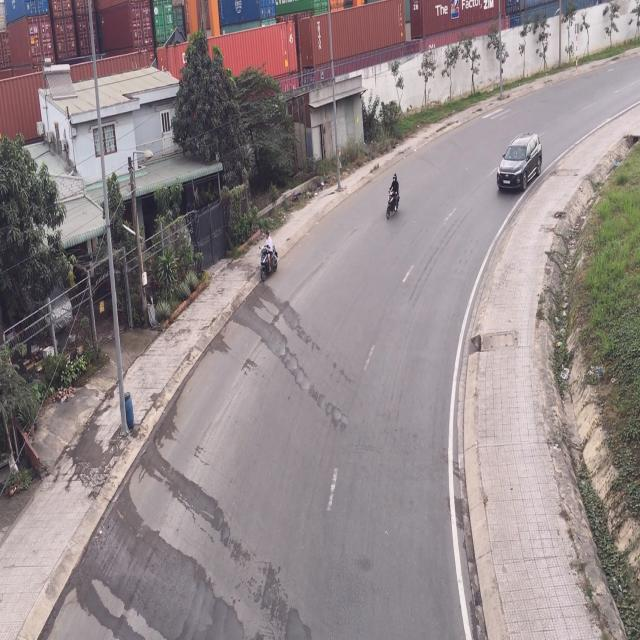car: (496, 136, 544, 195)
motorbike: (261, 232, 280, 282), (384, 172, 402, 224)
